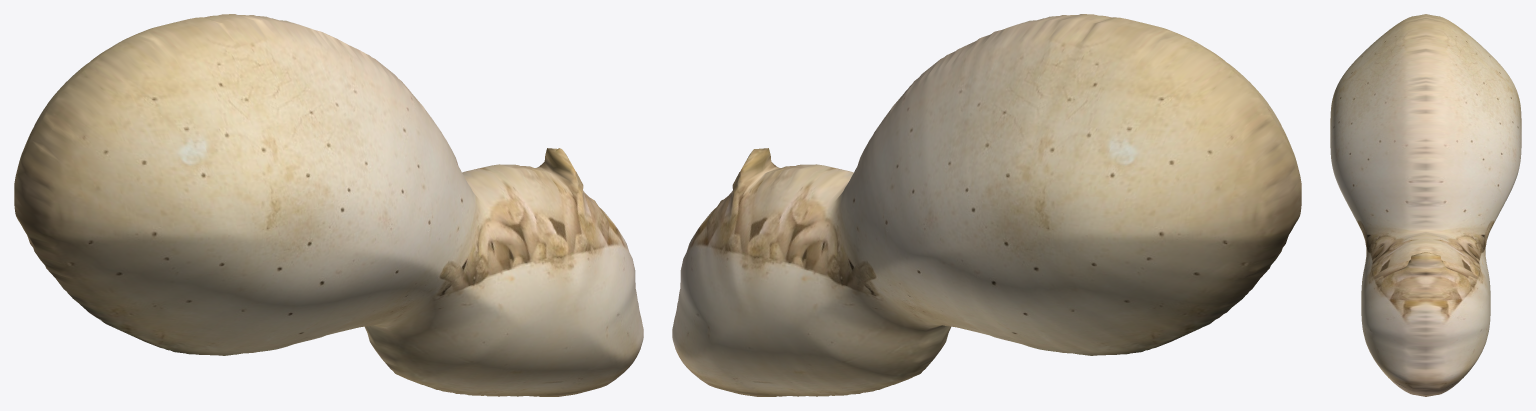
Rendered from escultura_organica_23_12_web.glb.
3 renders of one model, left to right at view 1: azimuth 30°, elevation 25°; view 2: azimuth 150°, elevation 25°; view 3: azimuth 270°, elevation 25°, orthographic. The views are drawn at different scales.
Parts seen in each view (by area): view 1: Escultura_Organica; view 2: Escultura_Organica; view 3: Escultura_Organica.
Part boxes in pixels (<box>): Escultura_Organica: <box>14,14,643,396</box>; Escultura_Organica: <box>672,14,1301,396</box>; Escultura_Organica: <box>1330,14,1521,396</box>.
Bounding box in the file's own units: 0.2759 × 0.1945 × 0.1307.
1 material, 1 textured.
